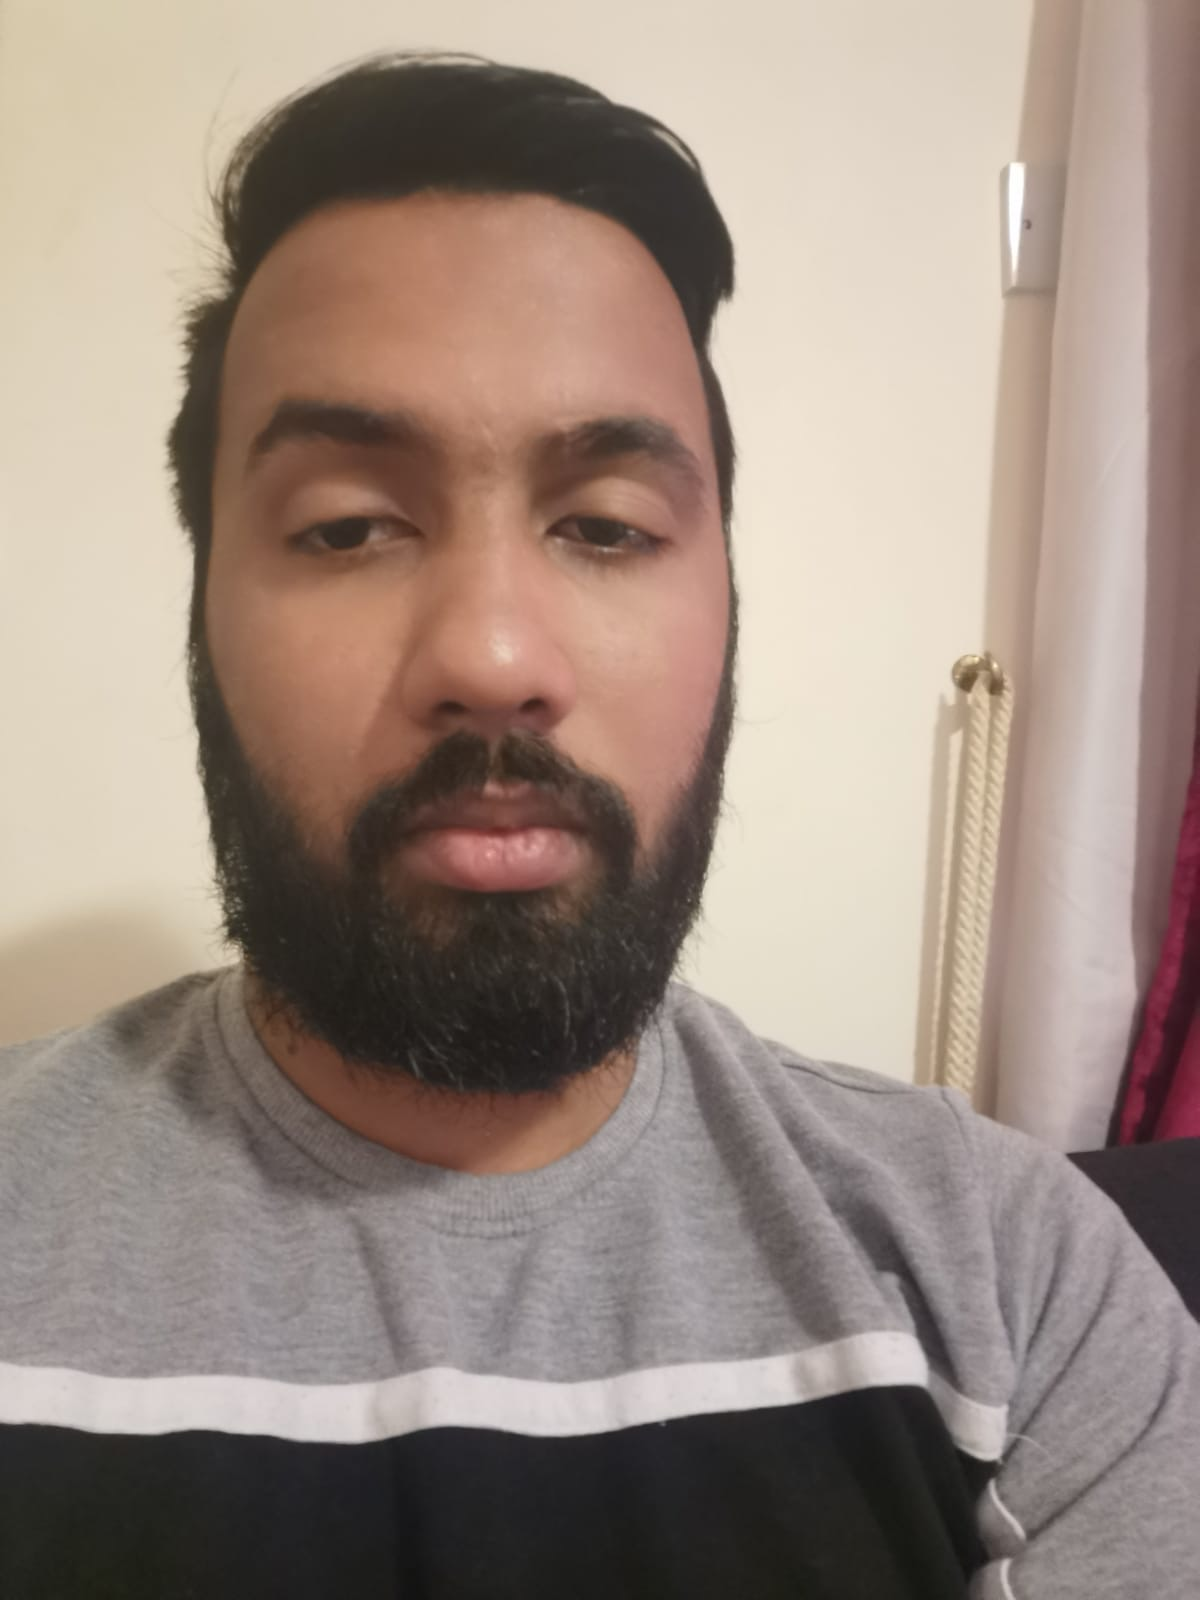Half Asleep: (239, 455, 708, 602)
